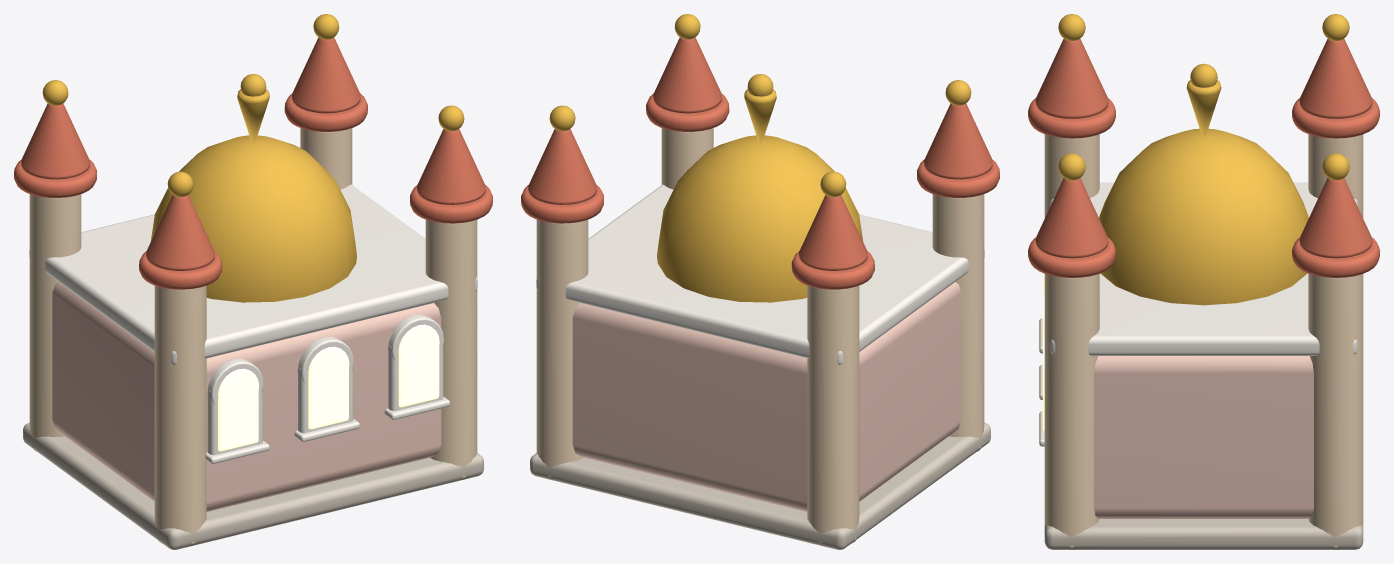
3 views of the same model, side by side, from view 1: azimuth 30°, elevation 25°; view 2: azimuth 150°, elevation 25°; view 3: azimuth 270°, elevation 25° (orthographic). The views are drawn at different scales.
Parts seen in each view (by area): view 1: Cube; view 2: Cube; view 3: Cube.
Part boxes in pixels (x1=…): Cube: x1=14, y1=14, x2=492, y2=549; Cube: x1=521, y1=14, x2=999, y2=549; Cube: x1=1028, y1=14, x2=1379, y2=549.
Bounding box in the file's own units: 0.76 × 0.8155 × 0.64.
